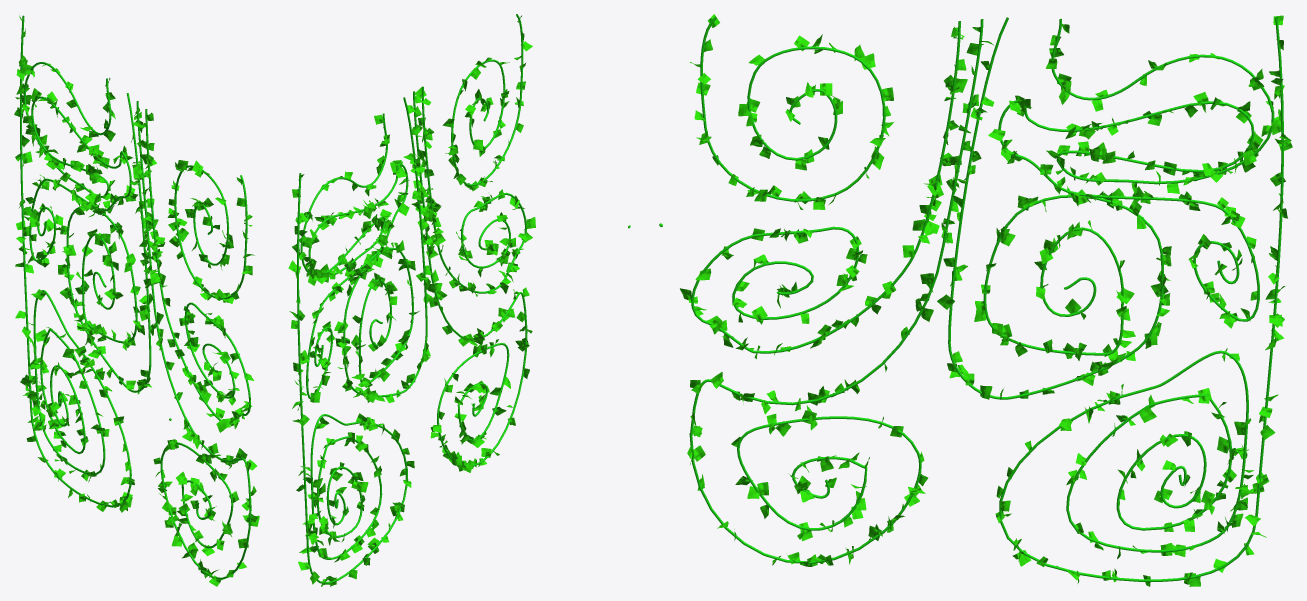
The model's file is vine3.fbx.
The picture shows the model from 3 angles, left to right: view 1: azimuth 30°, elevation 25°; view 2: azimuth 150°, elevation 25°; view 3: azimuth 270°, elevation 25°; orthographic projection. The views are drawn at different scales.
Visible parts, largest first — view 1: BézierCurve.003; view 2: BézierCurve.003; view 3: BézierCurve.003.
Part boxes in pixels (bbox=[...]): BézierCurve.003: bbox=[14, 15, 259, 586]; BézierCurve.003: bbox=[288, 14, 630, 586]; BézierCurve.003: bbox=[659, 14, 1292, 586].
Size of the model in its own units: 142 by 583 by 585.
